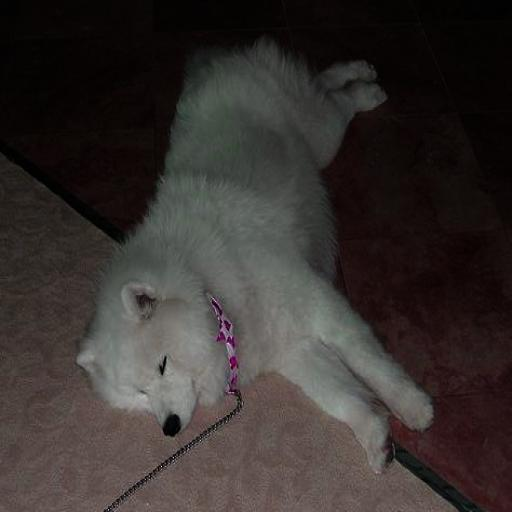dog_face: (78, 277, 214, 448)
